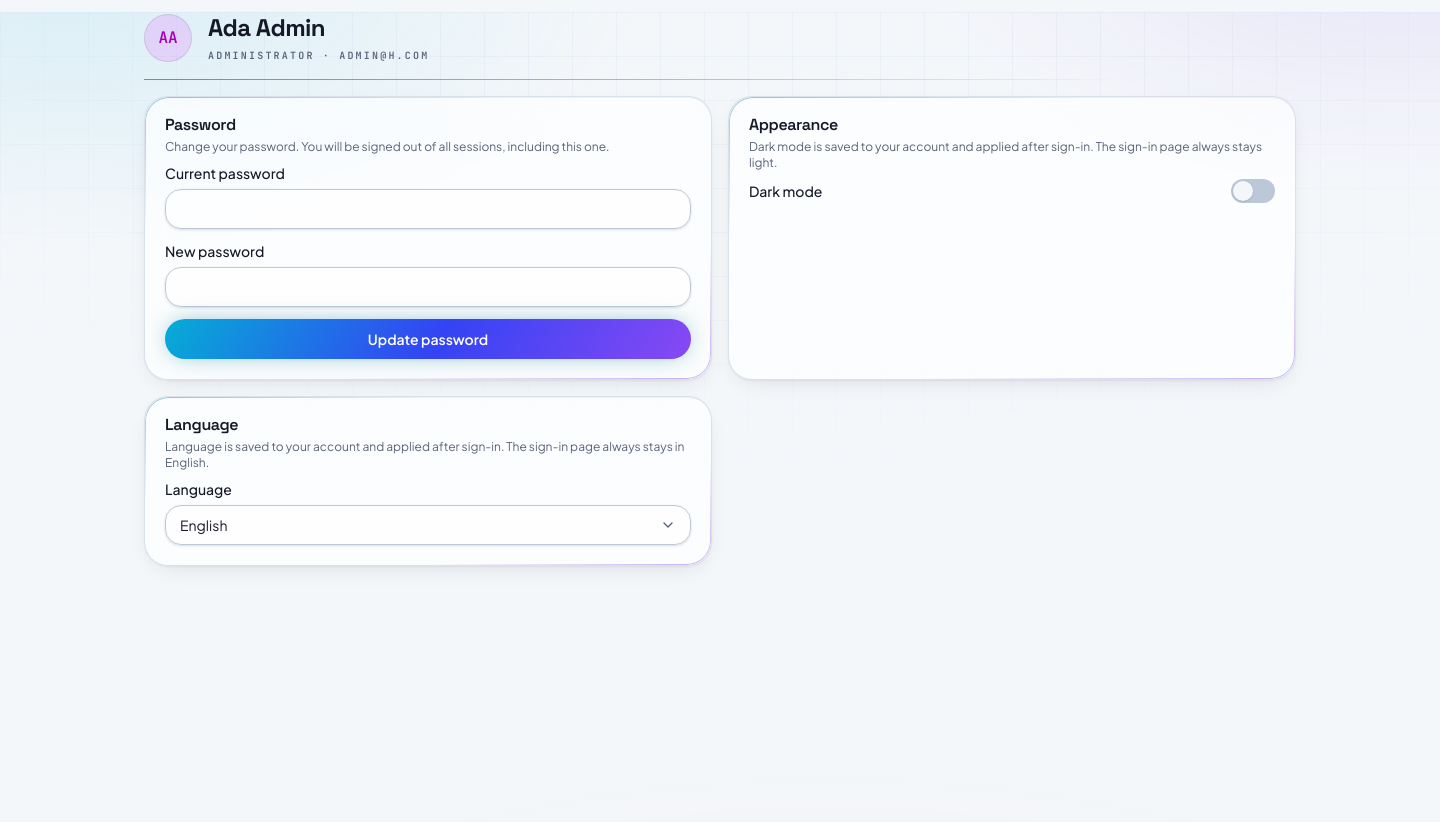
Test: ProfilePage language › saves the picked language to the account and shows it as selected
Click the dropdown with id "language". click: (204, 525)
box: left=165, top=505, right=691, bottom=545
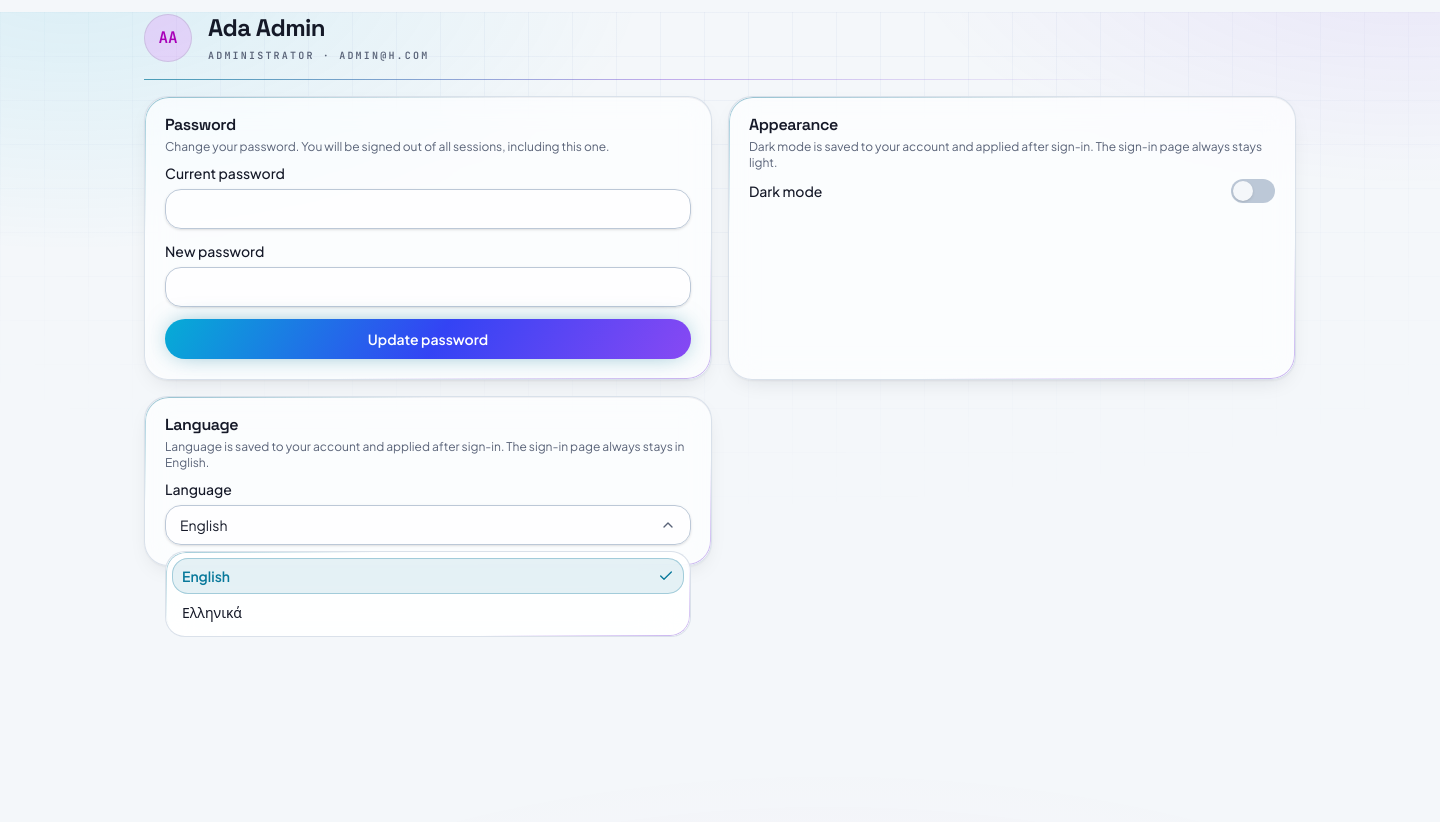
Click the option "Ελληνικά". click: (212, 612)
box: left=172, top=594, right=684, bottom=630
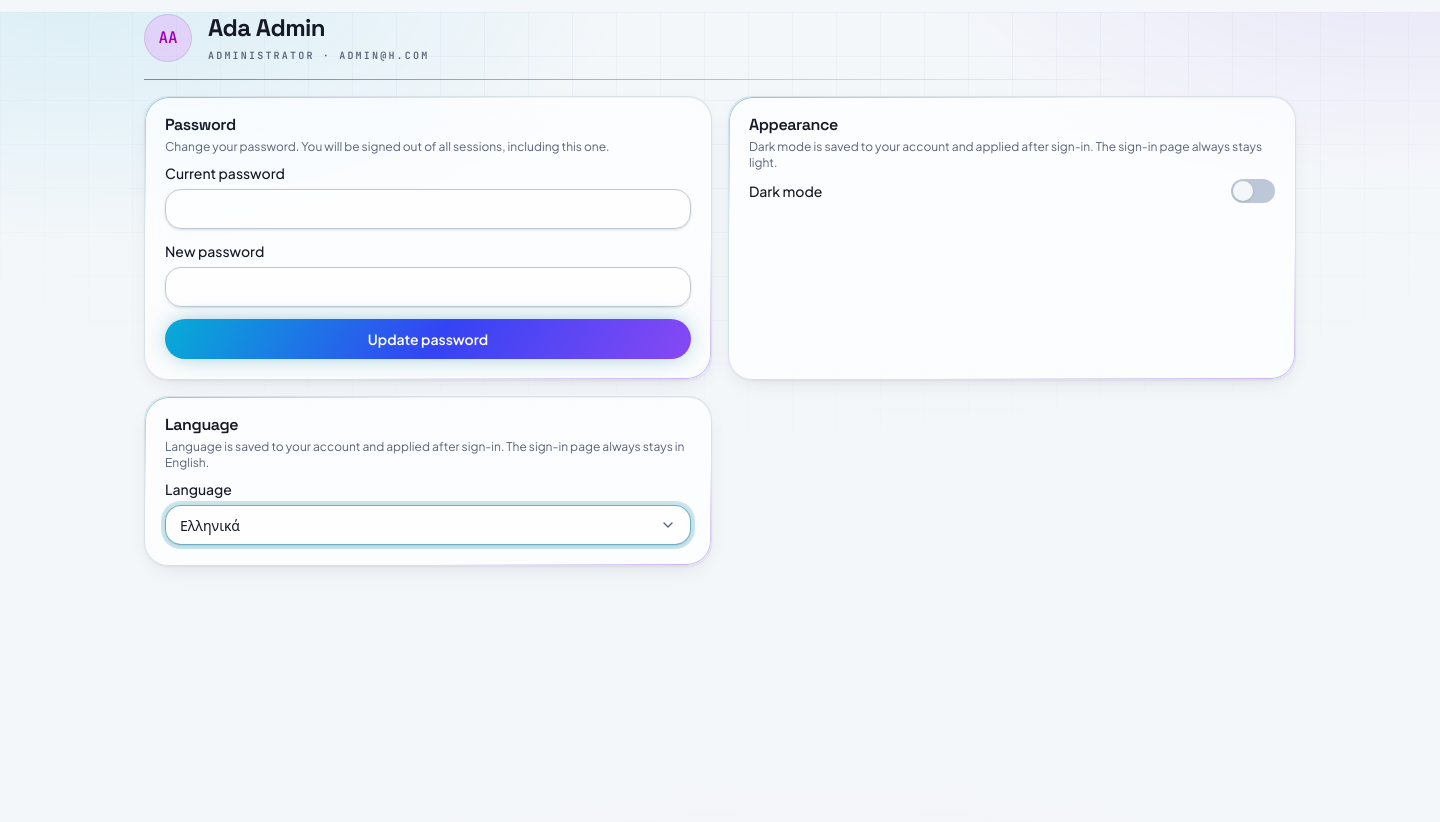
Check: the dropdown with id "language" reads "Ελληνικά", box left=165, top=505, right=691, bottom=545
